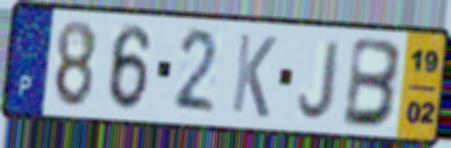2: (168, 25, 224, 121)
6: (107, 22, 157, 114)
8: (53, 18, 99, 110)
B: (340, 34, 406, 130)
J: (295, 37, 344, 122)
K: (228, 30, 279, 122)
